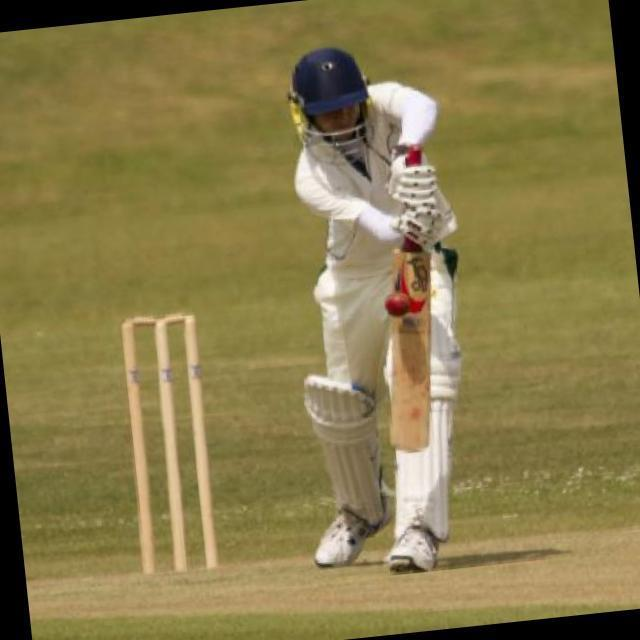Red_Ball: (380, 292, 417, 319)
